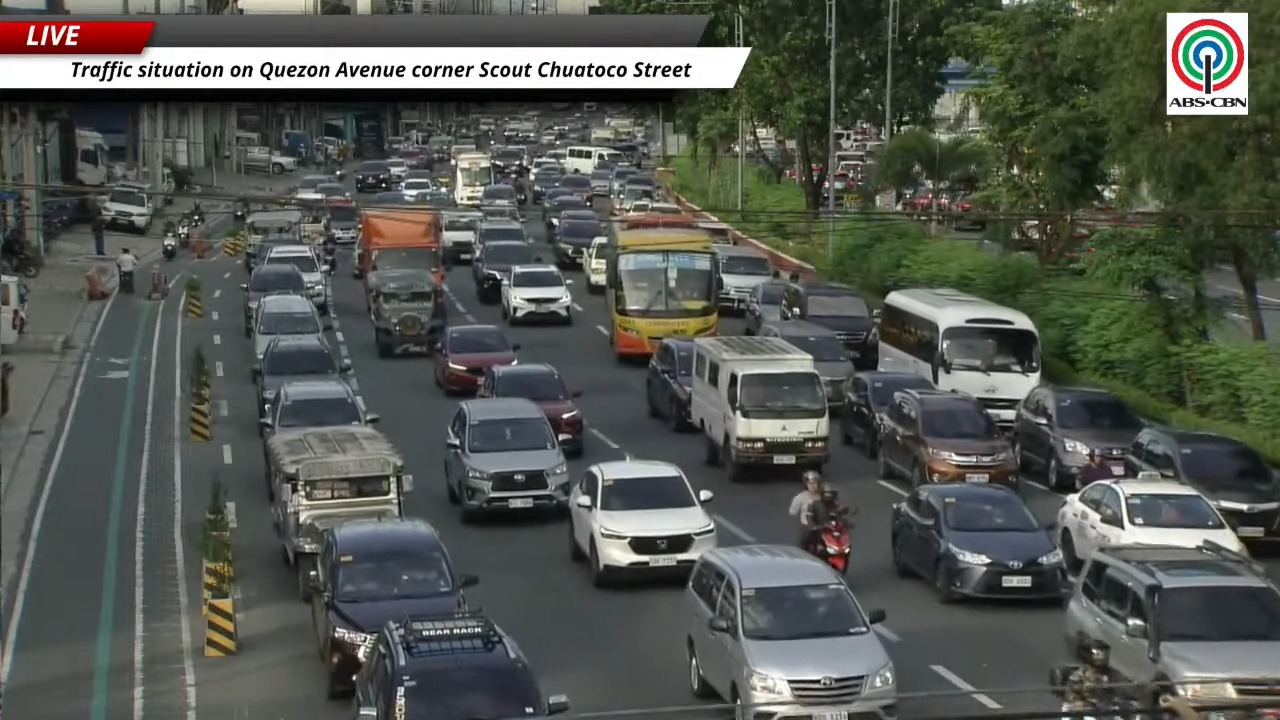bus: (877, 288, 1041, 427), (606, 214, 718, 359), (453, 153, 493, 205), (562, 146, 625, 174)
car: (682, 545, 897, 719), (1063, 543, 1279, 706), (309, 518, 478, 697), (354, 611, 568, 719), (890, 484, 1067, 602), (1057, 472, 1246, 570), (569, 459, 716, 585), (1126, 427, 1279, 540), (444, 397, 569, 521), (1012, 385, 1145, 491), (877, 389, 1018, 486), (477, 363, 584, 456), (779, 281, 878, 368), (757, 320, 852, 408), (839, 371, 934, 458), (252, 335, 351, 416), (260, 378, 379, 437), (367, 269, 446, 357), (434, 324, 519, 393), (259, 245, 331, 314), (250, 294, 323, 361), (241, 265, 306, 336), (646, 338, 693, 431), (501, 265, 572, 324), (471, 241, 539, 302), (713, 245, 772, 310), (553, 210, 606, 267), (243, 230, 306, 273), (100, 186, 152, 233), (744, 280, 786, 334), (442, 209, 482, 263), (543, 191, 590, 231), (475, 217, 528, 247), (582, 235, 609, 293), (328, 204, 360, 245), (541, 175, 572, 217), (614, 172, 657, 202), (355, 160, 395, 192), (610, 188, 654, 216), (530, 168, 562, 202), (295, 175, 335, 200), (409, 187, 453, 209), (608, 166, 639, 197), (559, 175, 592, 202), (490, 147, 524, 173), (481, 184, 518, 206), (401, 178, 434, 201), (479, 205, 522, 221), (589, 168, 611, 197), (315, 182, 349, 199), (369, 191, 410, 205), (530, 156, 563, 173), (385, 158, 408, 180), (404, 169, 434, 180)
motorcycle: (1049, 665, 1137, 719), (809, 514, 851, 575), (0, 247, 39, 278), (322, 243, 336, 275), (162, 233, 177, 260), (189, 204, 205, 226), (119, 271, 134, 294), (176, 221, 189, 247), (233, 203, 246, 222)
truck: (266, 426, 412, 599), (690, 336, 829, 481), (353, 208, 444, 285), (75, 128, 110, 186), (238, 145, 297, 174), (589, 126, 616, 144)
